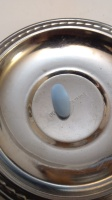Apranax: (50, 83, 72, 121)
